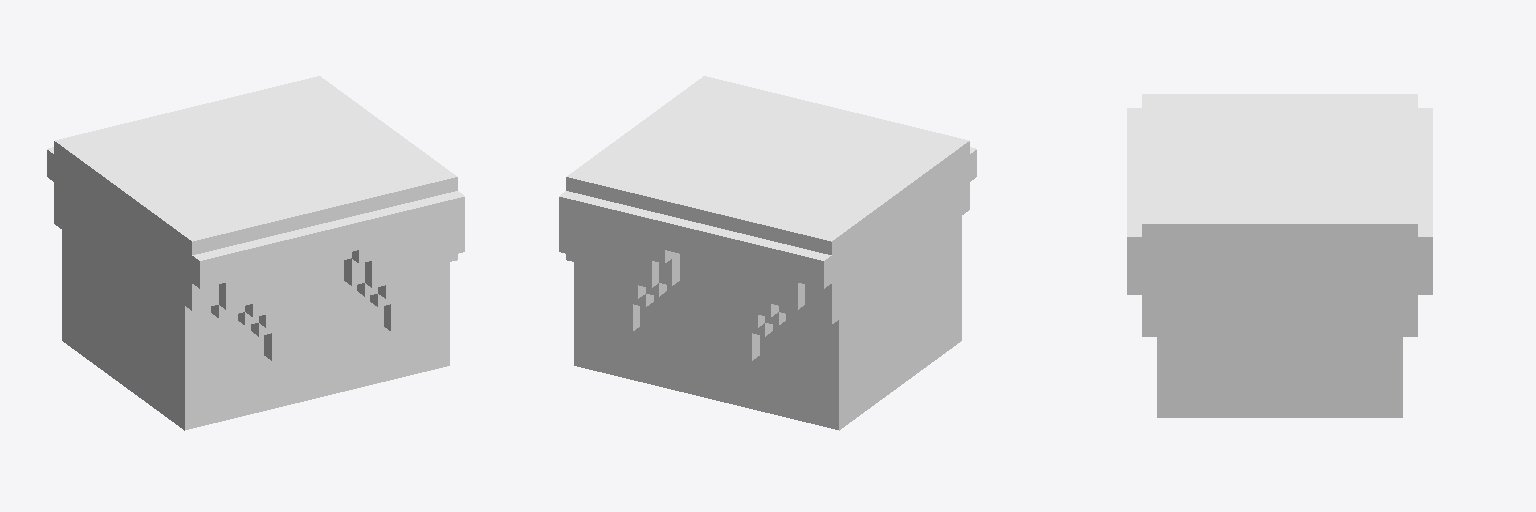
Rendered from Floors-24.obj.
The picture shows the model from 3 angles: view 1: azimuth 30°, elevation 25°; view 2: azimuth 150°, elevation 25°; view 3: azimuth 270°, elevation 25°; orthographic projection.
Visible parts, largest first — view 1: object 1; view 2: object 1; view 3: object 1.
Part boxes in pixels (left/top/right/bottom): object 1: left=47, top=76, right=464, bottom=430; object 1: left=559, top=76, right=976, bottom=430; object 1: left=1127, top=94, right=1432, bottom=417.
Size of the model in its own units: 2 by 1.4 by 2.